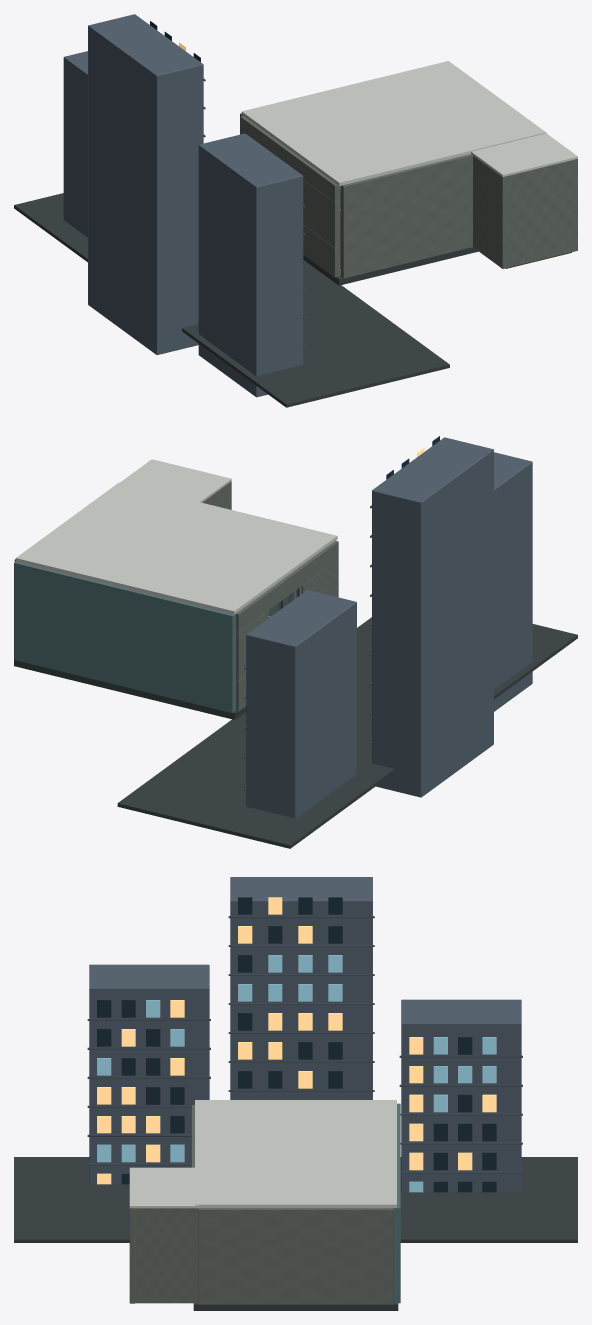
Rendered from SignalDebt_Apartment.glb.
The picture shows the model from 3 angles, top to bottom: view 1: azimuth 30°, elevation 25°; view 2: azimuth 150°, elevation 25°; view 3: azimuth 270°, elevation 25°; orthographic projection. The views are drawn at different scales.
Visible parts, largest first — view 1: City_Building_1, City_Building_0, Ceiling, Exterior_Alley, South_Wall_Left, Corridor_End, City_Building_2, Corridor_West, Corridor_Ceiling, West_Above_Window, West_Window_South, West_Below_Window (+1 smaller); view 2: City_Building_1, Ceiling, City_Building_2, North_Wall, Exterior_Alley, City_Building_0, Corridor_Ceiling, West_Above_Window, Foundation, West_Window_South, West_Window_North; view 3: City_Building_1, Ceiling, Exterior_Alley, East_Wall, City_Building_2, City_Building_0, Corridor_East, Corridor_Ceiling, Foundation, North_Wall, Corridor_End.
Part boxes in pixels (bbox=[...]): City_Building_1: bbox=[88, 14, 203, 354]; City_Building_0: bbox=[198, 133, 303, 397]; Ceiling: bbox=[241, 61, 546, 185]; Exterior_Alley: bbox=[14, 193, 449, 407]; South_Wall_Left: bbox=[340, 154, 472, 278]; Corridor_End: bbox=[500, 159, 577, 268]; City_Building_2: bbox=[63, 51, 87, 237]; Corridor_West: bbox=[473, 156, 507, 268]; Corridor_Ceiling: bbox=[471, 133, 577, 176]; West_Above_Window: bbox=[240, 116, 340, 202]; West_Window_South: bbox=[303, 180, 340, 247]; West_Below_Window: bbox=[303, 225, 340, 277]; City_Building_1: bbox=[372, 437, 493, 797]; Ceiling: bbox=[15, 482, 337, 614]; City_Building_2: bbox=[246, 590, 356, 818]; North_Wall: bbox=[14, 561, 235, 713]; Exterior_Alley: bbox=[117, 617, 577, 848]; City_Building_0: bbox=[494, 452, 532, 711]; Corridor_Ceiling: bbox=[120, 459, 231, 502]; West_Above_Window: bbox=[236, 540, 338, 631]; Foundation: bbox=[14, 660, 246, 719]; West_Window_South: bbox=[301, 559, 338, 597]; West_Window_North: bbox=[236, 611, 268, 679]; City_Building_1: bbox=[230, 877, 372, 1099]; Ceiling: bbox=[195, 1100, 396, 1207]; Exterior_Alley: bbox=[14, 1157, 577, 1242]; East_Wall: bbox=[198, 1208, 393, 1304]; City_Building_2: bbox=[401, 999, 521, 1191]; City_Building_0: bbox=[89, 964, 209, 1183]; Corridor_East: bbox=[135, 1208, 198, 1303]; Corridor_Ceiling: bbox=[129, 1167, 199, 1208]; Foundation: bbox=[193, 1303, 398, 1310]; North_Wall: bbox=[393, 1103, 400, 1303]; Corridor_End: bbox=[129, 1208, 135, 1303].
Size of the model in its own units: 11.93 by 8.6 by 15.
41 materials, 5 textured.
